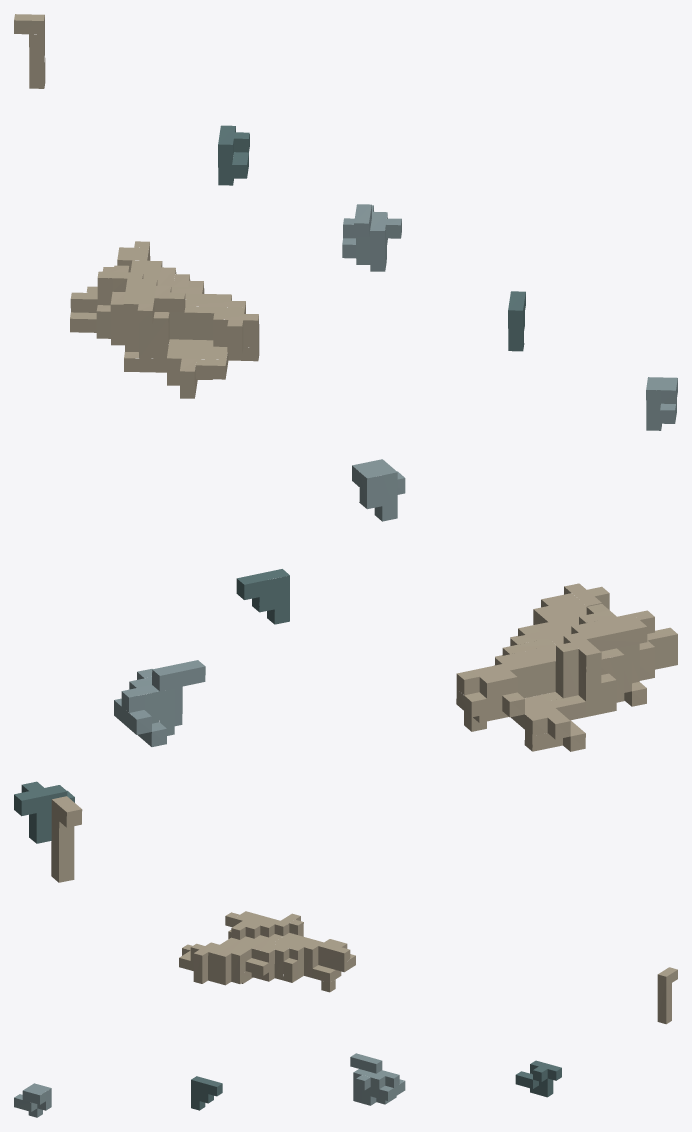
3 views of the same model, one above another, from view 1: azimuth 30°, elevation 25°; view 2: azimuth 150°, elevation 25°; view 3: azimuth 270°, elevation 25° (orthographic). The views are drawn at different scales.
Parts seen in each view (by area): view 1: measured-industrial; view 2: measured-industrial; view 3: measured-industrial.
Boxes of the visible parts, box(x1,y1,x2,y2) form: measured-industrial: box(14, 14, 677, 430); measured-industrial: box(14, 459, 677, 882); measured-industrial: box(14, 911, 677, 1117).
Bounding box in the file's own units: 31.39 × 8.96 × 63.51.
